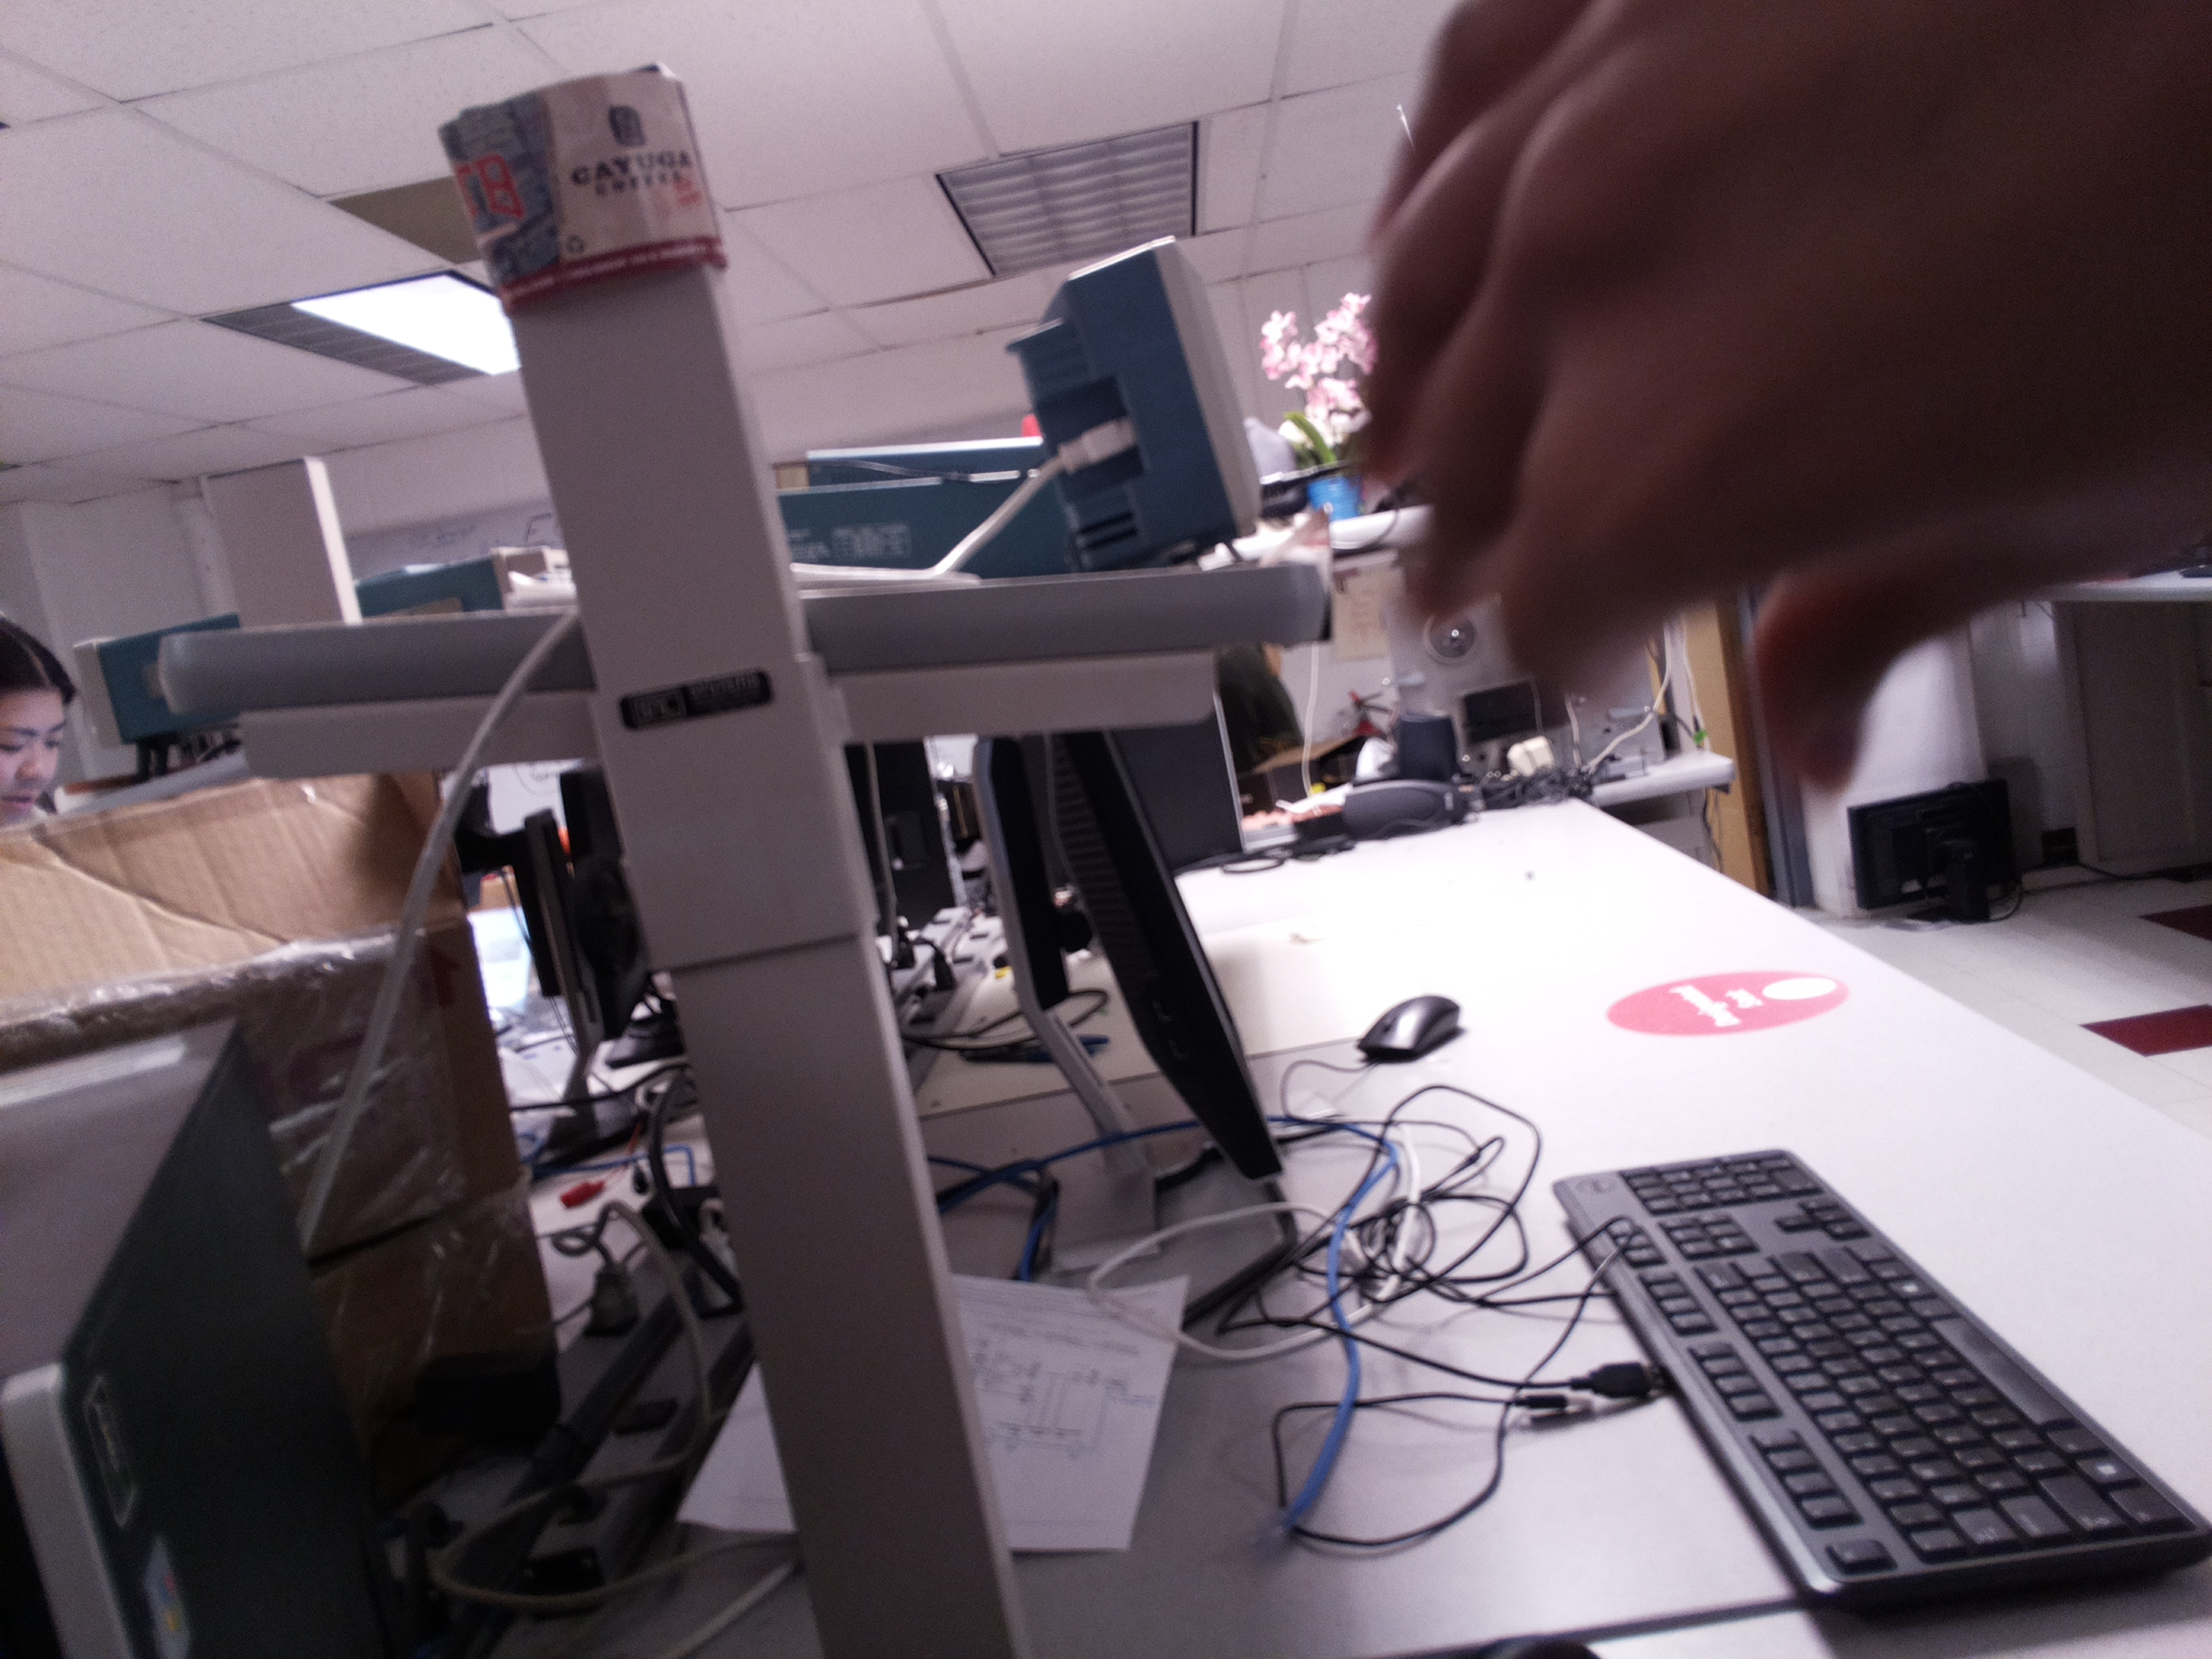notbird: (1339, 0, 2212, 798)
